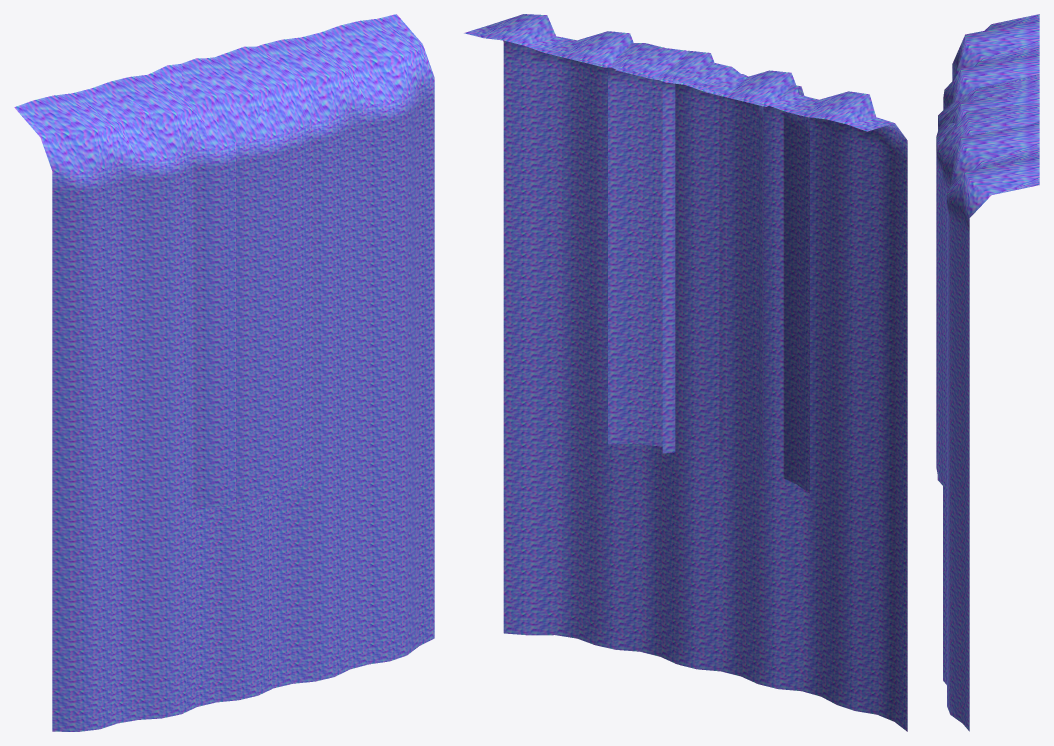
File: Waterfalls.fbx
The picture shows the model from 3 angles, left to right: view 1: azimuth 30°, elevation 25°; view 2: azimuth 150°, elevation 25°; view 3: azimuth 270°, elevation 25°; orthographic projection. The views are drawn at different scales.
Visible parts, largest first — view 1: Waterfall_20x30, Waterfall_10x20, Waterfall_5x20; view 2: Waterfall_20x30, Waterfall_10x20, Waterfall_5x20; view 3: Waterfall_20x30, Waterfall_10x20, Waterfall_5x20.
Part boxes in pixels (<box>): Waterfall_20x30: <box>14,14,434,731</box>; Waterfall_10x20: <box>119,37,321,508</box>; Waterfall_5x20: <box>181,58,290,502</box>; Waterfall_20x30: <box>464,14,907,731</box>; Waterfall_10x20: <box>564,43,809,493</box>; Waterfall_5x20: <box>615,62,763,477</box>; Waterfall_20x30: <box>943,14,1039,731</box>; Waterfall_10x20: <box>937,58,1039,485</box>; Waterfall_5x20: <box>936,83,1039,473</box>.
Bounding box in the file's own units: 2000 × 3003 × 511.
Materials: 1 (1 with a texture image).
